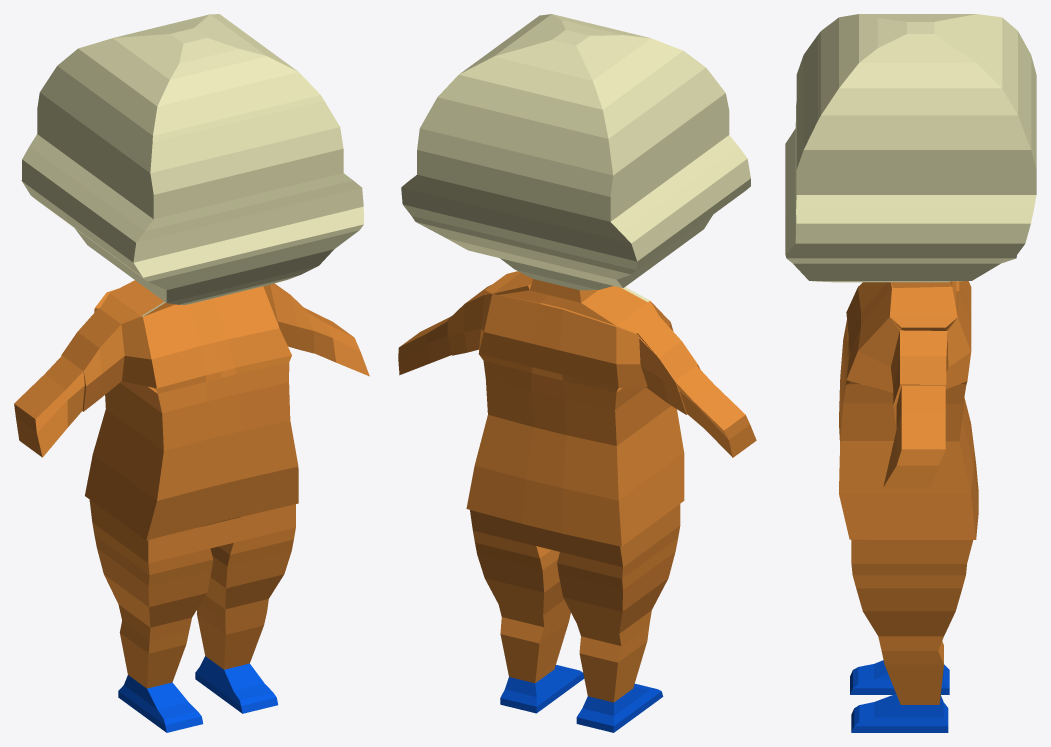
The model's file is personagem.fbx.
The picture shows the model from 3 angles, left to right: view 1: azimuth 30°, elevation 25°; view 2: azimuth 150°, elevation 25°; view 3: azimuth 270°, elevation 25°; orthographic projection. The views are drawn at different scales.
Visible parts, largest first — view 1: Cubo; view 2: Cubo; view 3: Cubo.
Boxes of the visible parts, left/top/right/bottom form: Cubo: left=14, top=14, right=369, bottom=732; Cubo: left=398, top=14, right=756, bottom=732; Cubo: left=785, top=14, right=1036, bottom=732.
Bounding box in the file's own units: 127 × 243 × 81.7.
